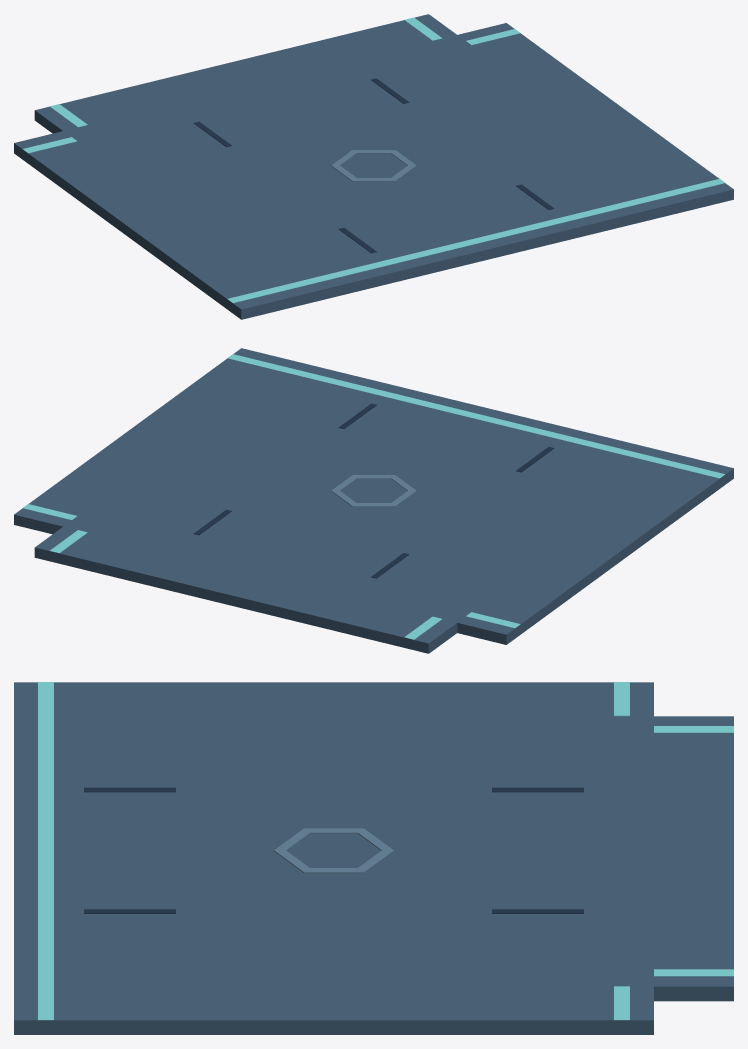
File: campus_walk_junction_v01.glb
The picture shows the model from 3 angles, top to bottom: view 1: azimuth 30°, elevation 25°; view 2: azimuth 150°, elevation 25°; view 3: azimuth 270°, elevation 25°; orthographic projection. The views are drawn at different scales.
Parts seen in each view (by area): view 1: campus_walk_junction; view 2: campus_walk_junction; view 3: campus_walk_junction.
Boxes of the visible parts, left/top/right/bottom form: campus_walk_junction: left=14, top=14, right=733, bottom=319; campus_walk_junction: left=14, top=348, right=733, bottom=653; campus_walk_junction: left=14, top=682, right=733, bottom=1034.
Bounding box in the file's own units: 4 × 0.086 × 3.6.
Materials: 1 (1 with a texture image).
